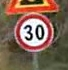limite 30: (12, 12, 56, 52)
